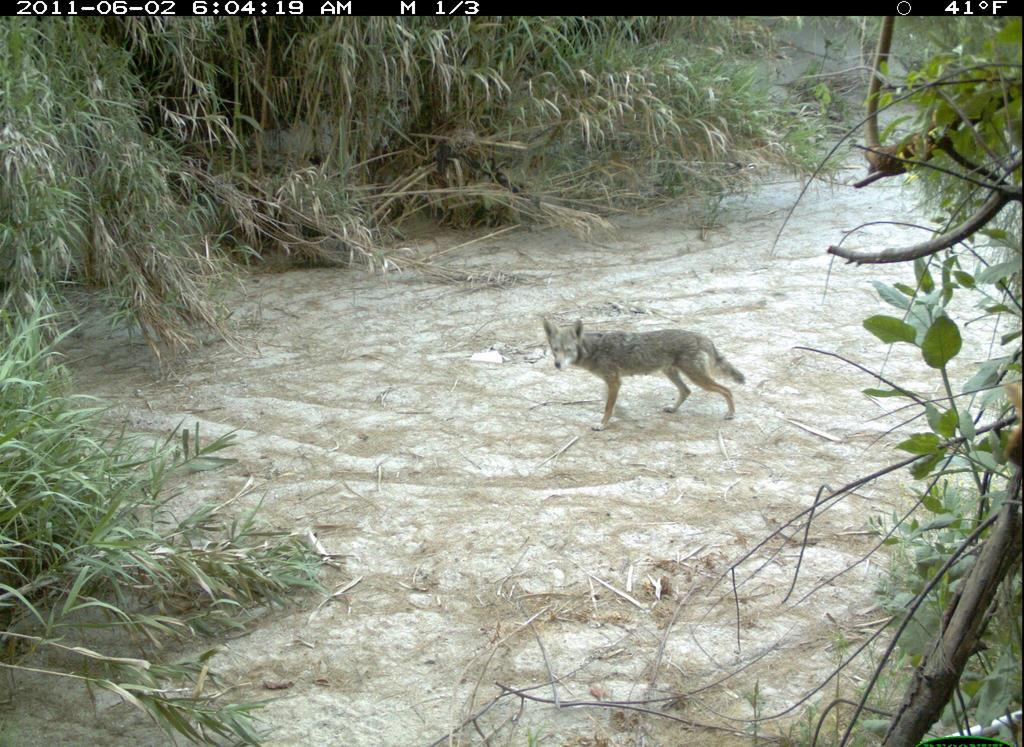coyote: (529, 303, 752, 428)
